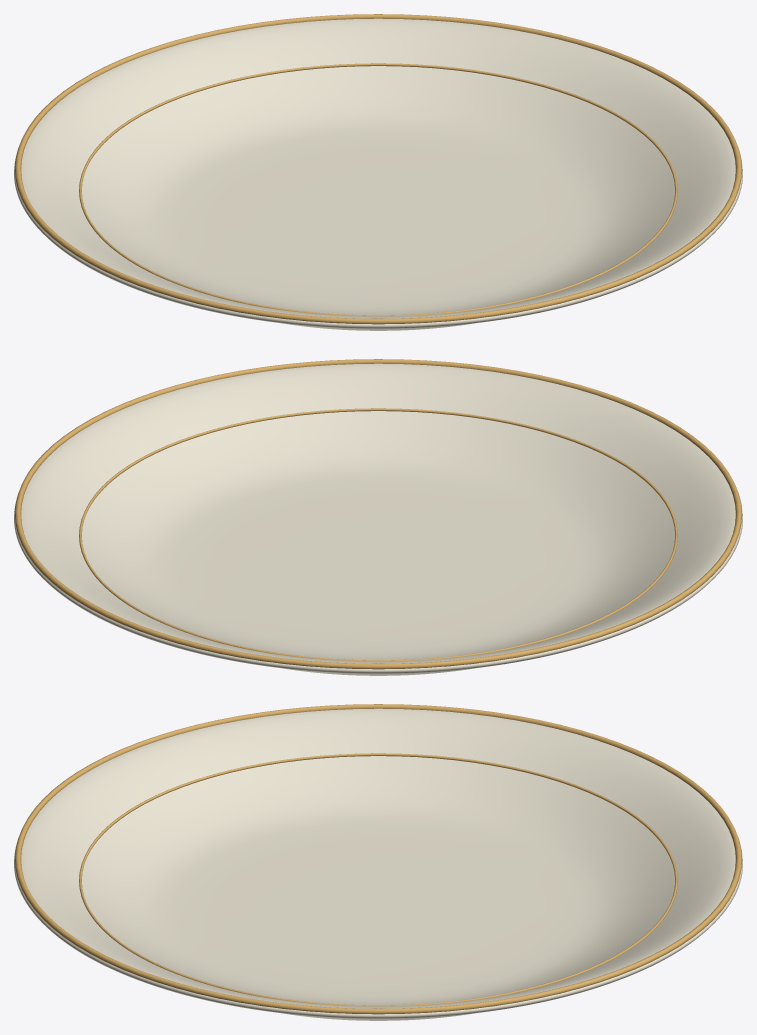
Rendered from charger.glb.
The picture shows the model from 3 angles, top to bottom: view 1: azimuth 30°, elevation 25°; view 2: azimuth 150°, elevation 25°; view 3: azimuth 270°, elevation 25°; orthographic projection.
Visible parts, largest first — view 1: Porcelain charger, Rolled gold lip, Fine inner gilt; view 2: Porcelain charger, Rolled gold lip, Fine inner gilt; view 3: Porcelain charger, Rolled gold lip, Fine inner gilt.
Boxes of the visible parts, <box> form: Porcelain charger: <box>14,18,742,330</box>; Rolled gold lip: <box>14,14,742,324</box>; Fine inner gilt: <box>79,63,677,316</box>; Porcelain charger: <box>14,363,742,675</box>; Rolled gold lip: <box>14,359,742,669</box>; Fine inner gilt: <box>79,408,677,661</box>; Porcelain charger: <box>14,708,742,1020</box>; Rolled gold lip: <box>14,704,742,1014</box>; Fine inner gilt: <box>79,753,677,1006</box>.
Bounding box in the file's own units: 2.05 × 0.193 × 2.05.
